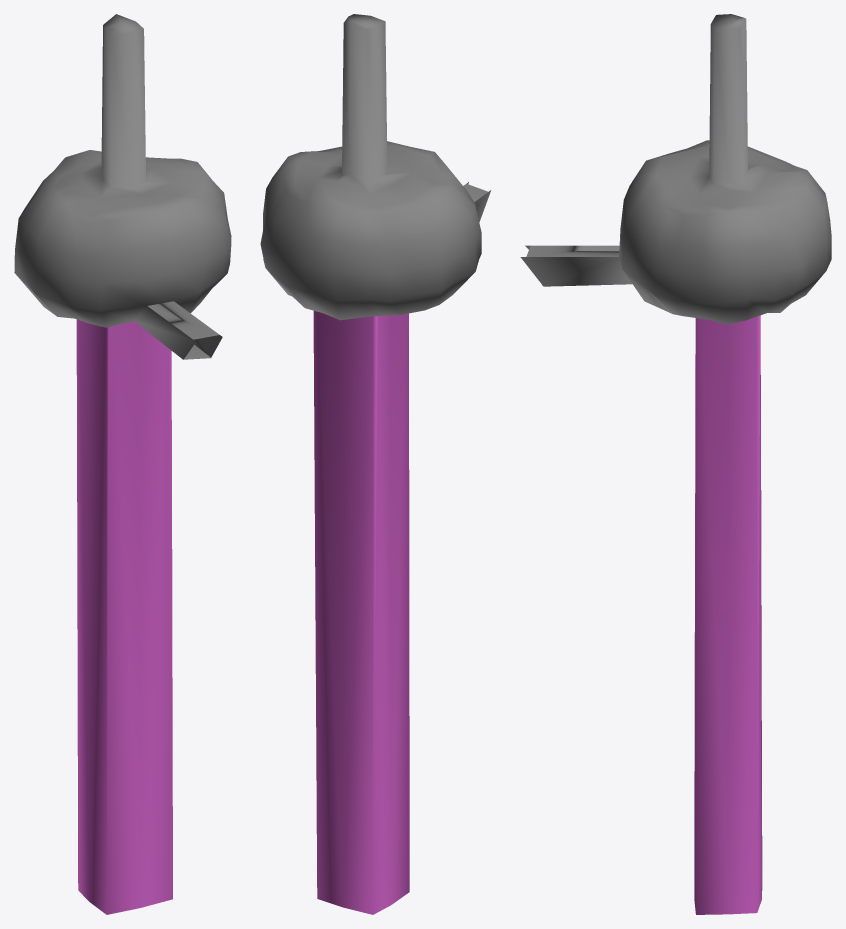
The model's file is cave.glb.
The picture shows the model from 3 angles, left to right: view 1: azimuth 30°, elevation 25°; view 2: azimuth 150°, elevation 25°; view 3: azimuth 270°, elevation 25°; orthographic projection.
Visible parts, largest first — view 1: Cube; view 2: Cube; view 3: Cube.
Boxes of the visible parts, box(x1,y1,x2,y2) form: Cube: box(14, 14, 231, 914); Cube: box(260, 14, 491, 914); Cube: box(520, 14, 831, 914).
Bounding box in the file's own units: 41.17 × 174 × 55.74.
